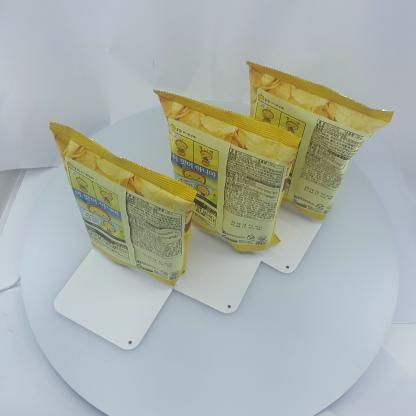Plastic Packaging: (39, 121, 185, 294), (166, 87, 282, 259), (254, 64, 376, 224)
